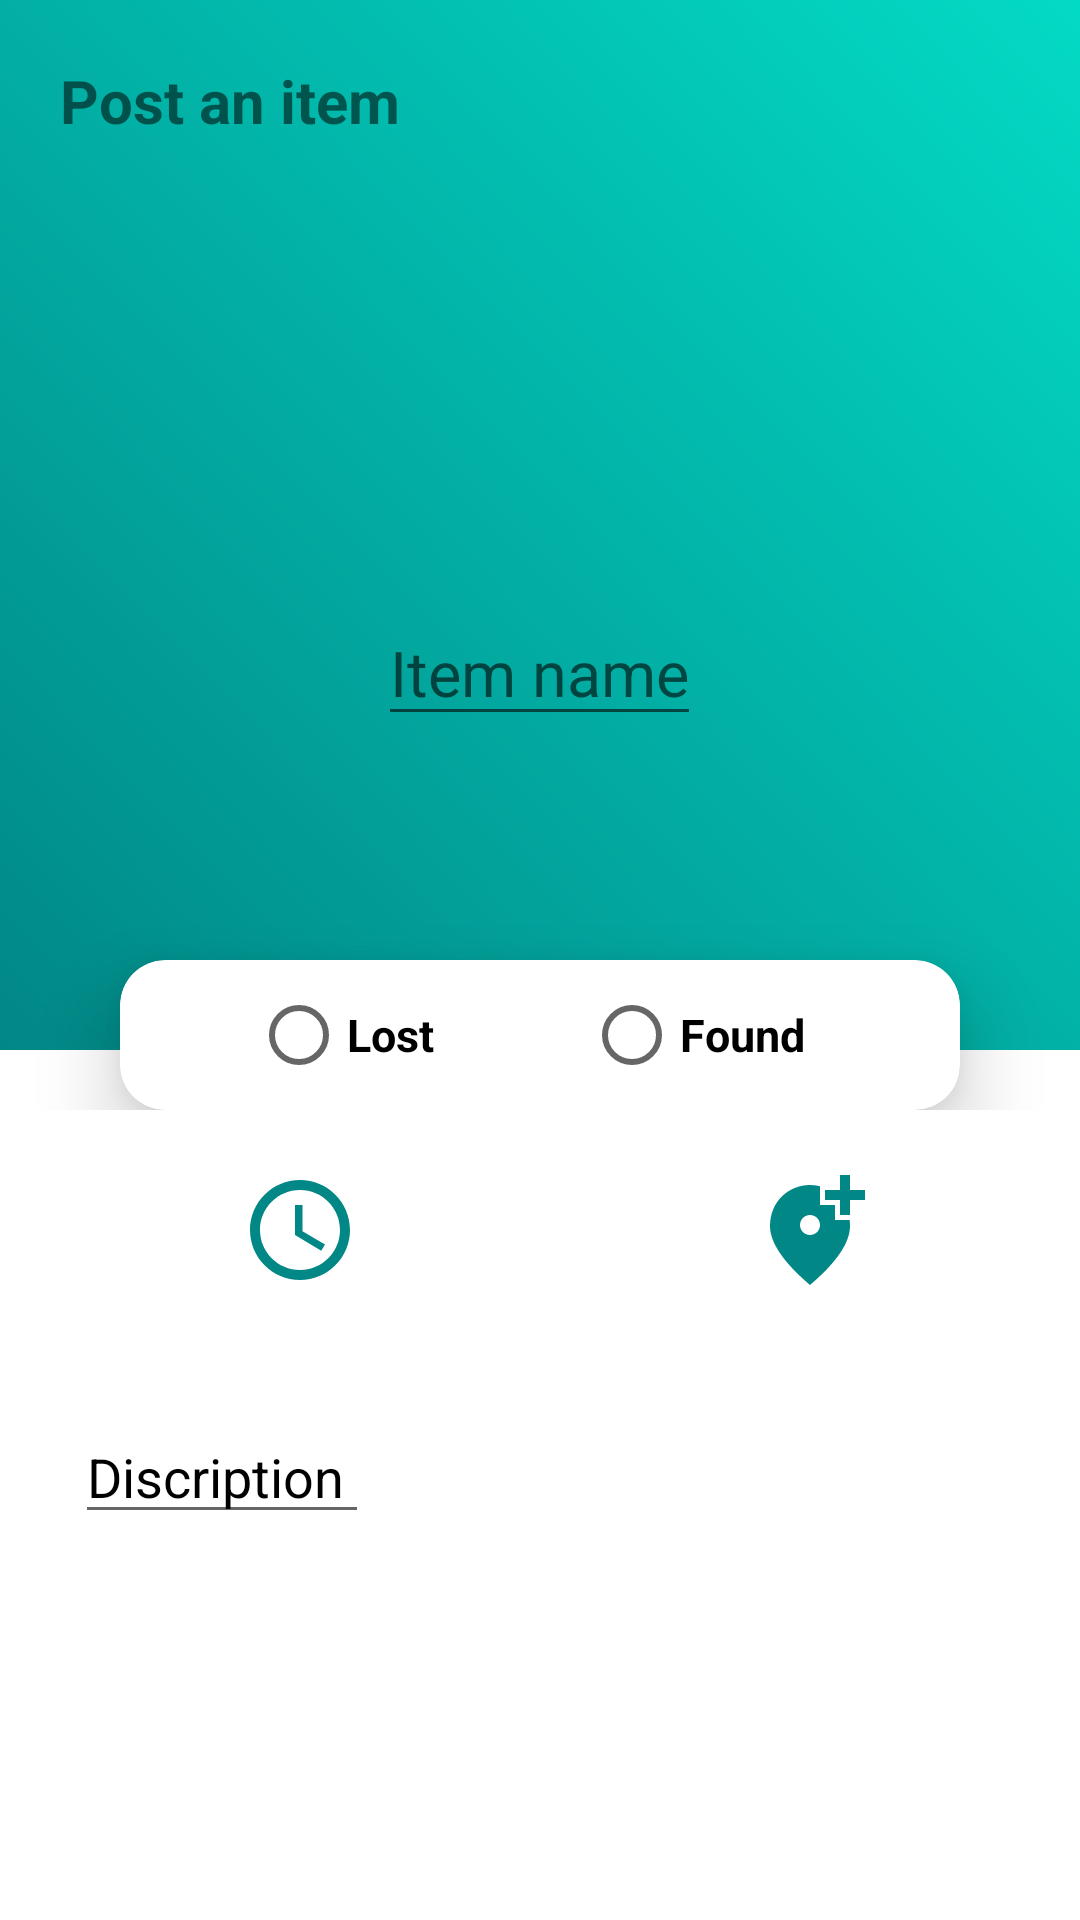

Where icons sit on this 1080w x 1920h app screen, as bbox=(x1, y1, x2, y2):
access time: bbox=(250, 1180, 350, 1280)
add location: bbox=(770, 1175, 865, 1285)
